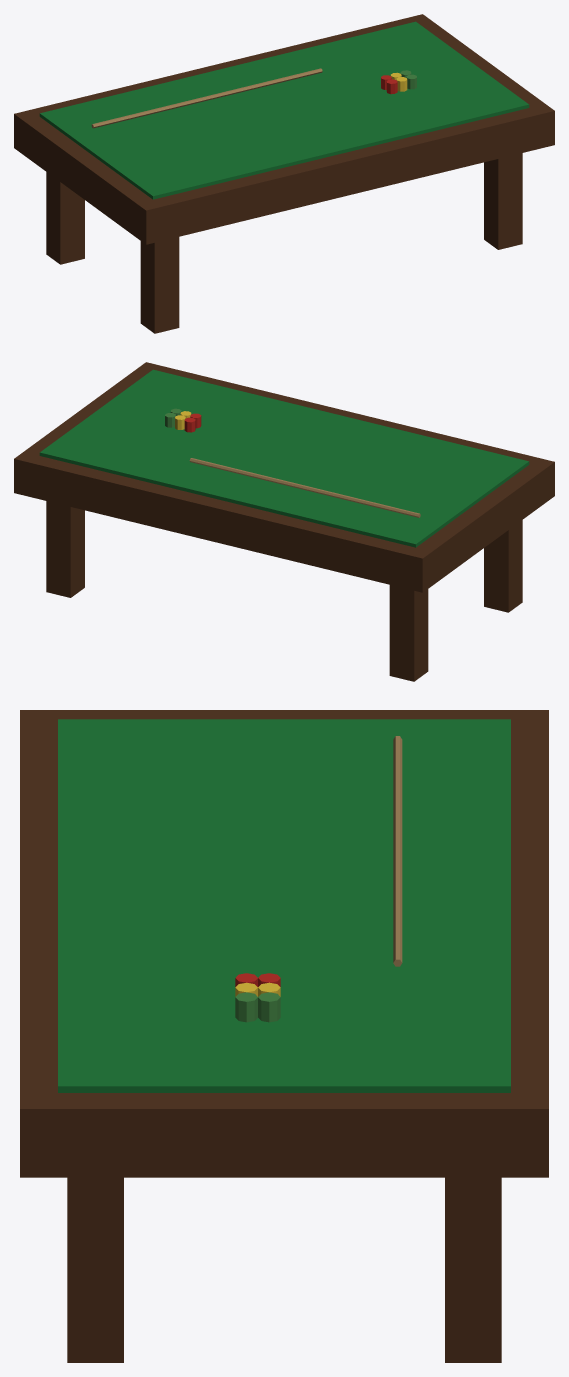
File: pool table.glb
The picture shows the model from 3 angles, top to bottom: view 1: azimuth 30°, elevation 25°; view 2: azimuth 150°, elevation 25°; view 3: azimuth 270°, elevation 25°; orthographic projection. The views are drawn at different scales.
Parts seen in each view (by area): view 1: pool table; view 2: pool table; view 3: pool table.
Part boxes in pixels (x1,y1,x2,y2): pool table: [14, 14, 554, 333]; pool table: [14, 362, 554, 681]; pool table: [20, 710, 548, 1362].
Size of the model in its own units: 2.5 by 0.88 by 1.4.
